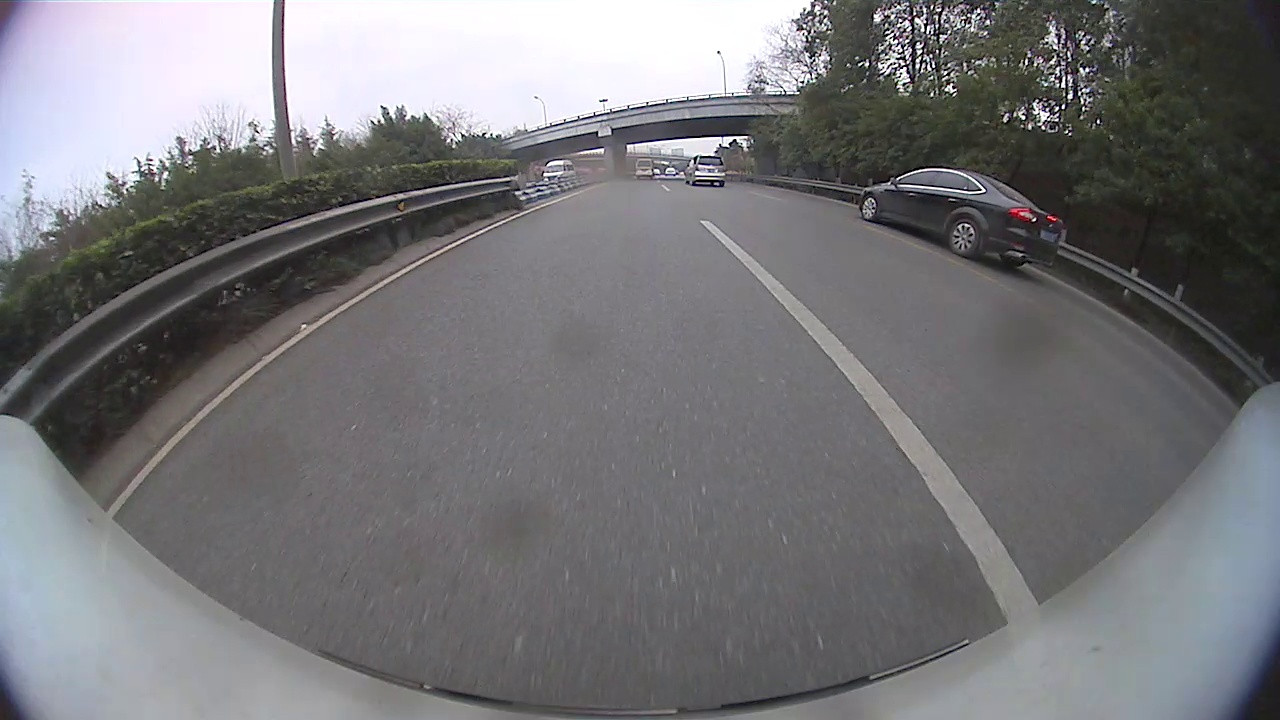car: (856, 165, 1065, 269), (682, 153, 726, 187), (540, 158, 575, 181), (634, 157, 654, 178)
front: (859, 197, 880, 222)
rear: (948, 218, 980, 258)
